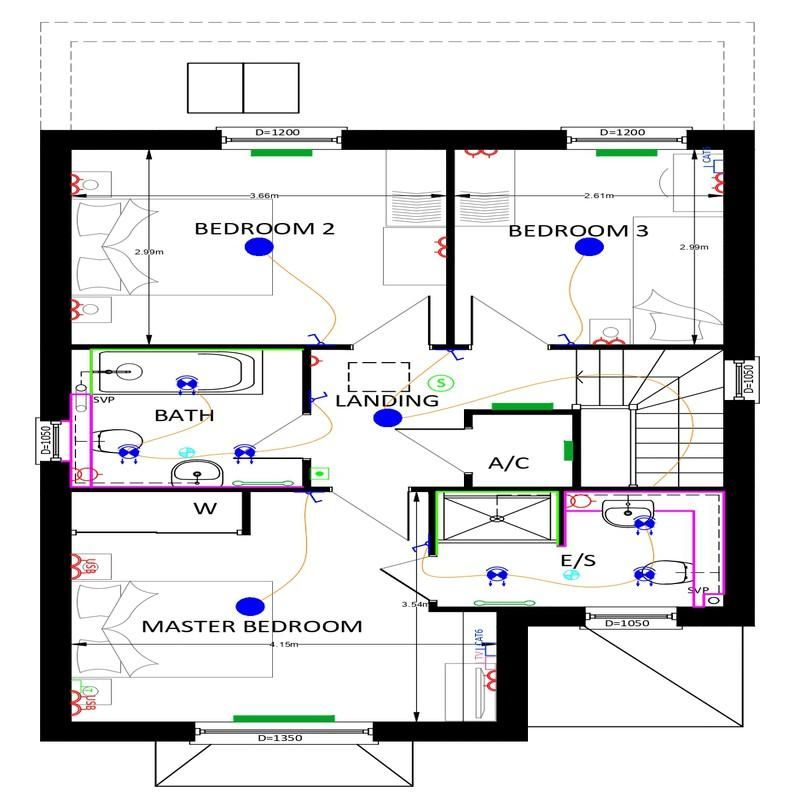Cat 6 Data Socket: (474, 628, 496, 655), (703, 150, 723, 173)
Ceiling Mounted Continuous Extract FanWith Boost Mode Activated By Light Switch: (179, 447, 194, 457), (564, 570, 579, 579)
Co-Ax TV Socket: (474, 649, 496, 668)
Double Socket: (71, 299, 84, 323), (483, 669, 496, 692), (592, 336, 625, 345), (465, 150, 498, 159), (434, 236, 446, 258), (71, 174, 83, 195), (712, 174, 723, 193)
Full Height Tiling: (90, 349, 304, 394), (435, 491, 559, 556)
Light Switch: (447, 349, 465, 361), (558, 333, 575, 345), (306, 333, 324, 344), (412, 541, 428, 553), (311, 392, 328, 403), (307, 492, 323, 503)
Low Energy Downlighter: (634, 566, 656, 588), (486, 566, 508, 587), (234, 444, 256, 465), (175, 375, 198, 395), (634, 515, 655, 536), (118, 444, 140, 464)
Low Energy Pendant Light: (237, 597, 265, 616), (245, 238, 274, 256), (575, 238, 604, 256), (374, 409, 402, 427)
Mains Wired Smoke Detector: (428, 375, 454, 390)
Programmable Room Thermostat: (311, 468, 329, 480)
Radiator: (233, 716, 335, 723), (491, 403, 554, 410), (596, 150, 657, 157), (251, 150, 312, 157), (564, 441, 572, 460)
Shaver Socket: (564, 492, 597, 510), (72, 468, 103, 482)
Single Socket: (310, 355, 323, 366)
Telephone Socket: (71, 679, 89, 693)
USB Double Socket: (71, 553, 95, 580), (72, 691, 95, 716)
